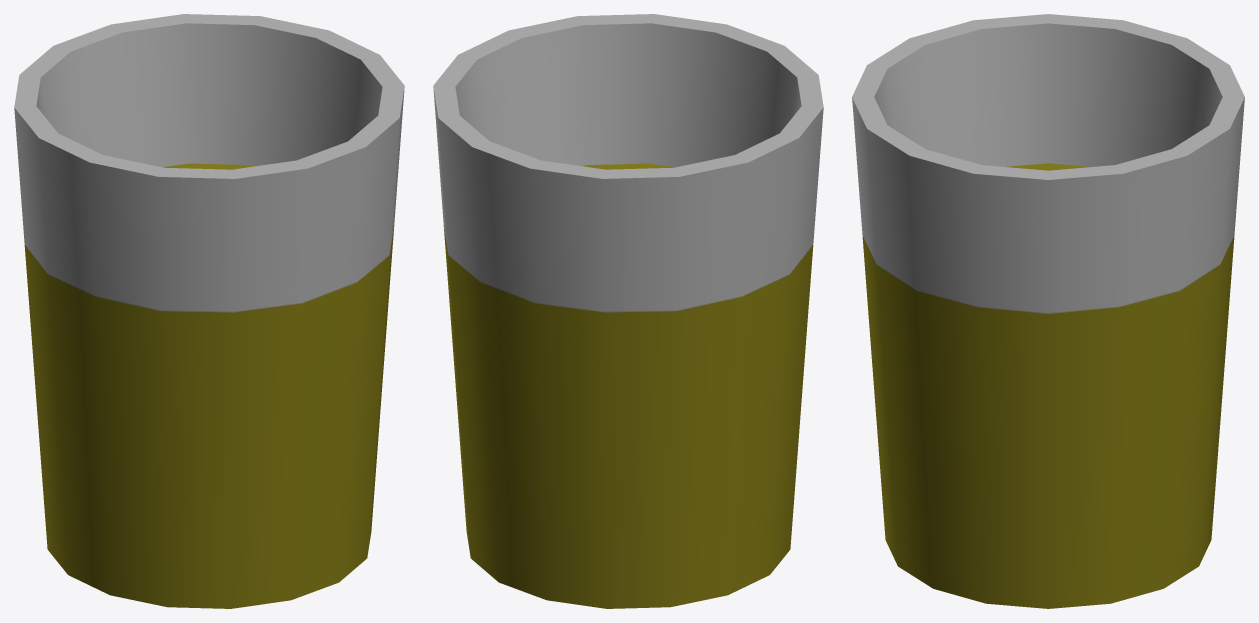
File: CopoShot.fbx
3 views of the same model, side by side, from view 1: azimuth 30°, elevation 25°; view 2: azimuth 150°, elevation 25°; view 3: azimuth 270°, elevation 25° (orthographic).
Visible parts, largest first — view 1: Copo; view 2: Copo; view 3: Copo.
Part boxes in pixels (left/top/right/bottom): Copo: left=14, top=14, right=404, bottom=608; Copo: left=433, top=14, right=823, bottom=608; Copo: left=852, top=14, right=1244, bottom=608.
Bounding box in the file's own units: 2.41 × 3 × 2.41.
